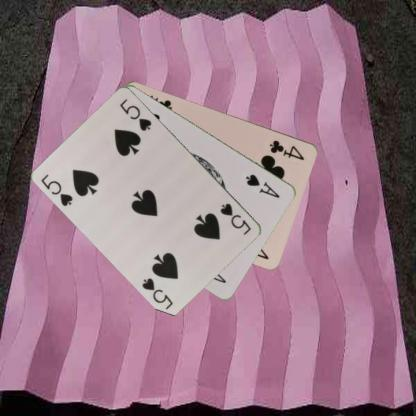4c: (268, 136, 306, 162)
5s: (38, 170, 75, 208), (217, 200, 253, 236)
As: (244, 170, 282, 199)
